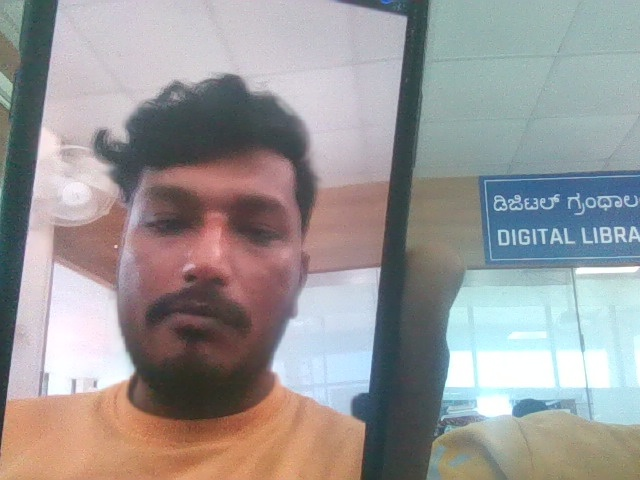fake: (87, 71, 327, 411)
